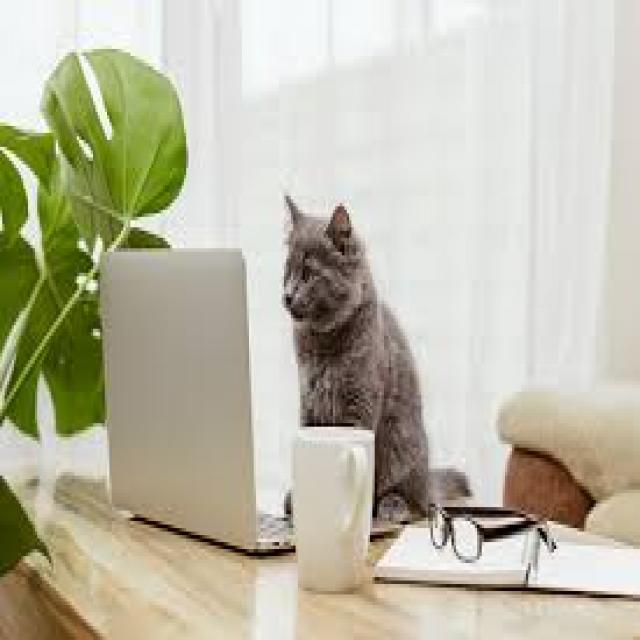Cat: (280, 187, 435, 521)
